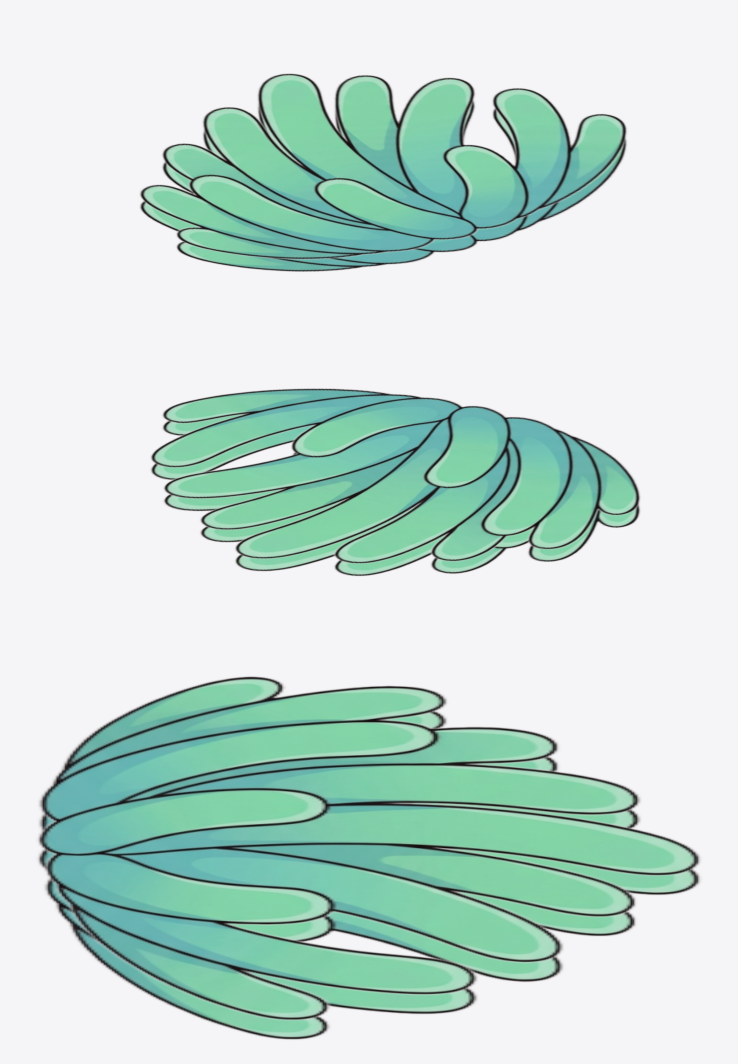
The model's file is grasstuft.glb.
3 views of the same model, one above another, from view 1: azimuth 30°, elevation 25°; view 2: azimuth 150°, elevation 25°; view 3: azimuth 270°, elevation 25° (orthographic). The views are drawn at different scales.
Visible parts, largest first — view 1: grasstuft; view 2: grasstuft; view 3: grasstuft.
Part boxes in pixels (x1,y1,x2,y2): grasstuft: (139, 73, 627, 271); grasstuft: (150, 388, 640, 576); grasstuft: (36, 676, 701, 1039).
Bounding box in the file's own units: 2 × 0.05 × 1.65.
Materials: 1 (1 with a texture image).
